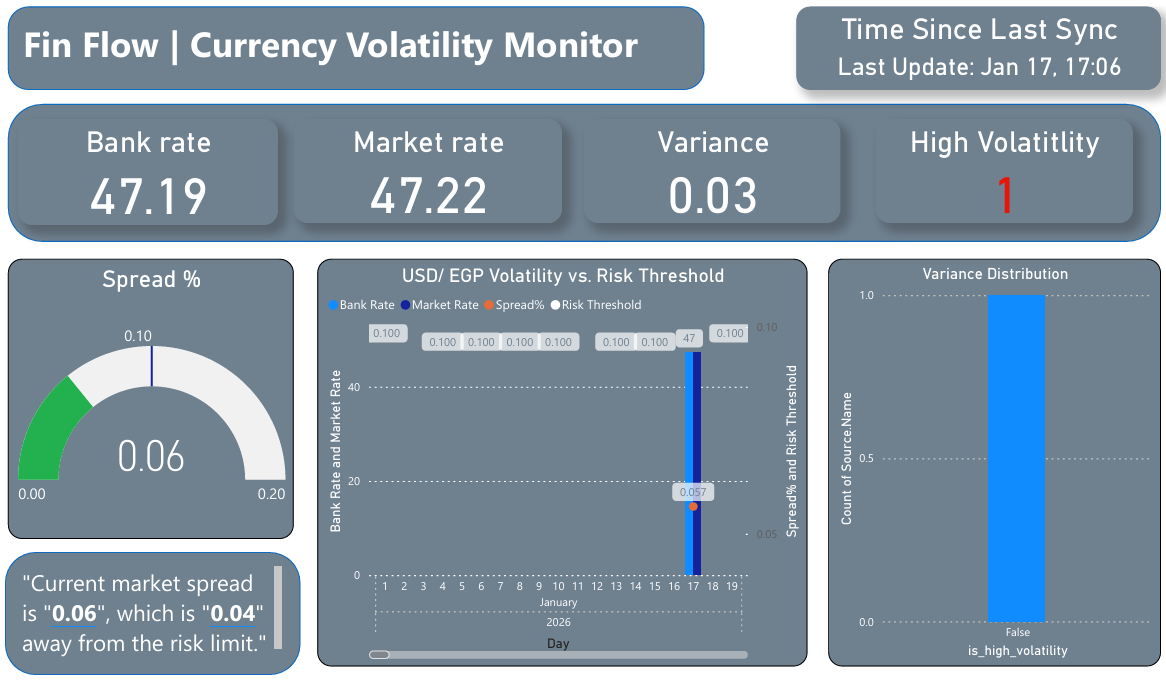

The page's visual inventory and layout, read from the dashboard file:
{"tool":"powerbi","page":{"name":"Page 1","canvas":[1280,720],"ordinal":0},"visuals":[{"type":"shape","box":[7.2,581.7,315,131.2],"z":0},{"type":"shape","box":[10.1,0,743.3,88.9],"z":1000},{"type":"shape","box":[10,103.8,1230,147.5],"z":2000},{"type":"gauge","title":"Spread %","fields":{"Y":["Sum(gold.spread_percentage)"]},"box":[10,268.8,305,298.8],"z":3000},{"type":"card","title":"Bank rate","fields":{"Values":["Sum(gold.api_rate)"]},"box":[21.2,120,276.2,112.5],"z":4000},{"type":"card","title":"Market rate","fields":{"Values":["Sum(gold.market_rate)"]},"box":[315,120,286.2,111.2],"z":5000},{"type":"card","title":"Variance","fields":{"Values":["Sum(gold.absolute_variance)"]},"box":[625,120,272.5,111.2],"z":6000},{"type":"textbox","box":[21.4,9,694.4,72.3],"z":7000},{"type":"card","title":"High Volatitlity","fields":{"Values":["CountNonNull(gold.is_high_volatility)"]},"box":[936.2,120,273.8,111.2],"z":8000},{"type":"lineClusteredColumnComboChart","title":"USD/ EGP Volatility vs. Risk Threshold","fields":{"Y":["Avg(gold.api_rate)","Avg(gold.market_rate)"],"Y2":["Avg(gold.spread_percentage)","gold.Risk Threshold"],"Category":["gold.api_ingested_at.Variation.Date Hierarchy.Year","gold.api_ingested_at.Variation.Date Hierarchy.Month","gold.api_ingested_at.Variation.Date Hierarchy.Day"]},"box":[340,268.8,522.5,435],"z":9000},{"type":"card","title":"Time Since Last Sync","fields":{"Values":["gold.Last Sync"]},"box":[851.2,0,388.8,88.8],"z":10000},{"type":"textbox","box":[19.7,591.7,287.5,110],"z":11000},{"type":"clusteredColumnChart","title":"Variance Distribution","fields":{"Category":["gold.is_high_volatility"],"Y":["CountNonNull(gold.Source.Name)"]},"box":[885,268.8,355,435],"z":12000}]}

Visuals, with their boxes in screenshot pixels (x1, y1, x2, y2):
shape: crop(7, 545, 300, 667)
shape: crop(9, 3, 702, 86)
shape: crop(9, 100, 1155, 237)
"Spread %" gauge: crop(9, 253, 293, 532)
"Bank rate" card: crop(20, 115, 277, 220)
"Market rate" card: crop(293, 115, 560, 218)
"Variance" card: crop(582, 115, 836, 218)
textbox: crop(20, 11, 667, 79)
"High Volatitlity" card: crop(872, 115, 1127, 218)
"USD/ EGP Volatility vs. Risk Threshold" lineClusteredColumnComboChart: crop(317, 253, 803, 659)
"Time Since Last Sync" card: crop(793, 3, 1155, 86)
textbox: crop(18, 554, 286, 657)
"Variance Distribution" clusteredColumnChart: crop(824, 253, 1155, 659)
